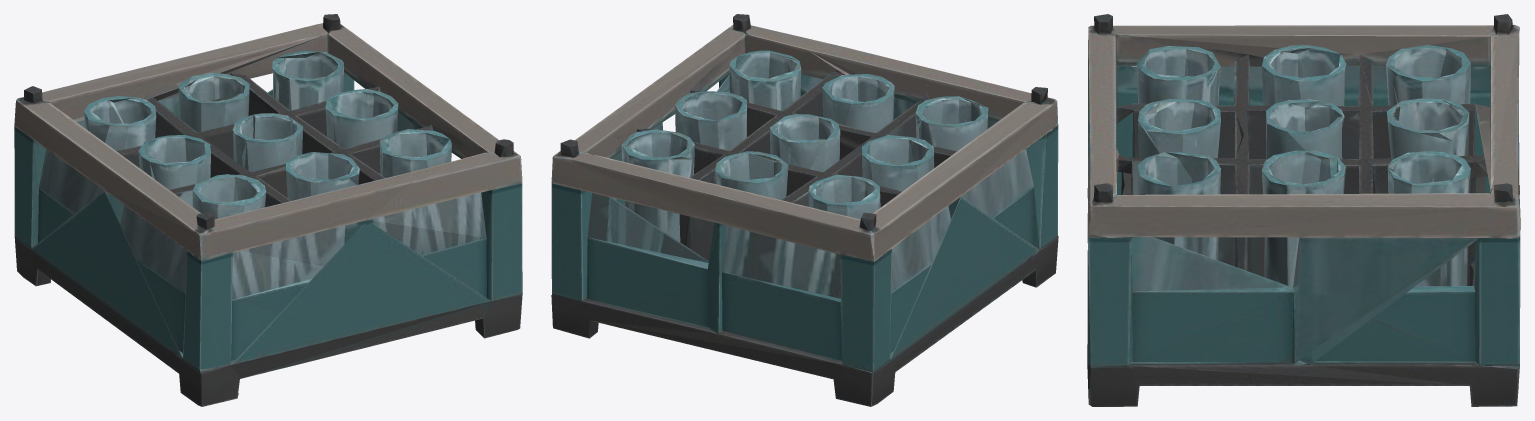
File: glassRack.glb
3 renders of one model, left to right at view 1: azimuth 30°, elevation 25°; view 2: azimuth 150°, elevation 25°; view 3: azimuth 270°, elevation 25°, orthographic. The views are drawn at different scales.
Visible parts, largest first — view 1: Mesh_0; view 2: Mesh_0; view 3: Mesh_0.
Boxes of the visible parts, bbox=[...] form: Mesh_0: bbox=[14, 14, 522, 406]; Mesh_0: bbox=[551, 14, 1058, 406]; Mesh_0: bbox=[1087, 14, 1520, 406].
Bounding box in the file's own units: 0.3645 × 0.2 × 0.3643.
1 material, 1 textured.
